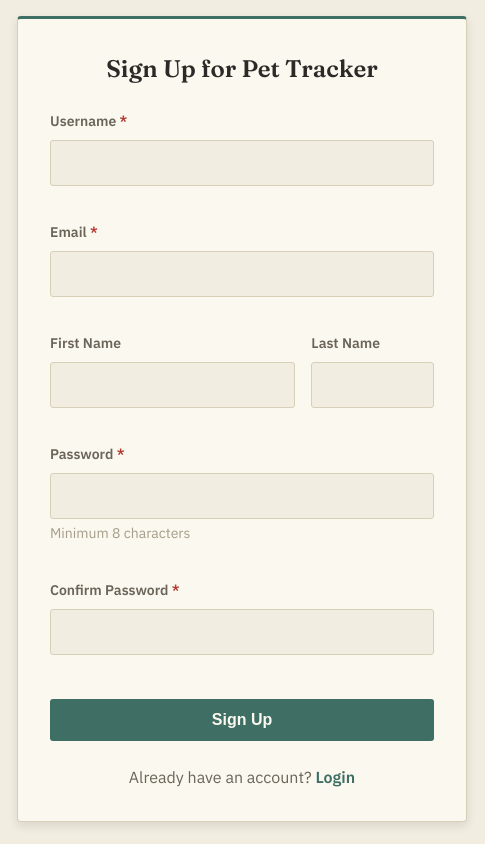
Test: Signup Component › disables form during registration
Type "newuser" into the field labelled "Username *". click: (242, 163)
box: top-left (50, 140), bottom-right (434, 186)
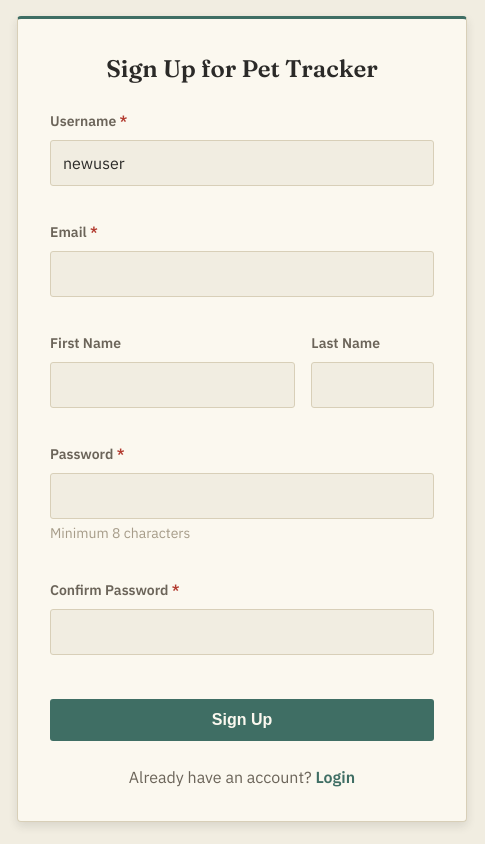
Type "new@example.com" into the field labelled "Email *". click: (242, 274)
box: top-left (50, 251), bottom-right (434, 297)
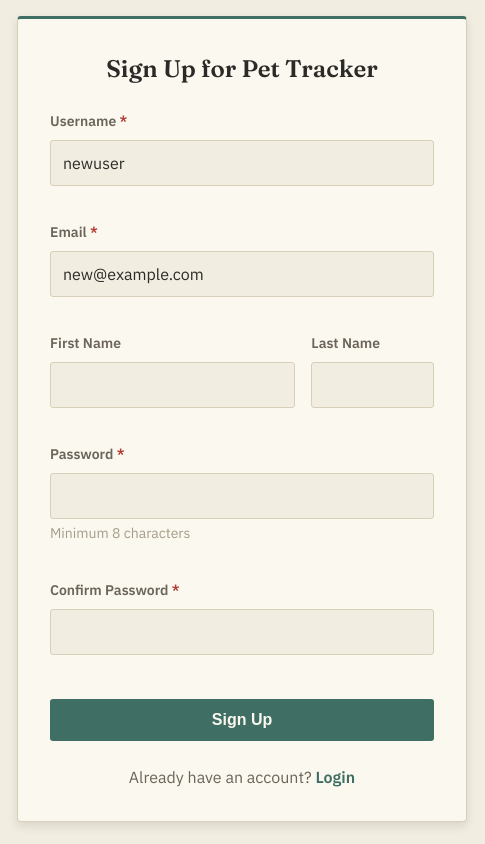
Type "password123" into the password field labelled "Password *". click: (242, 496)
box: top-left (50, 473), bottom-right (434, 519)
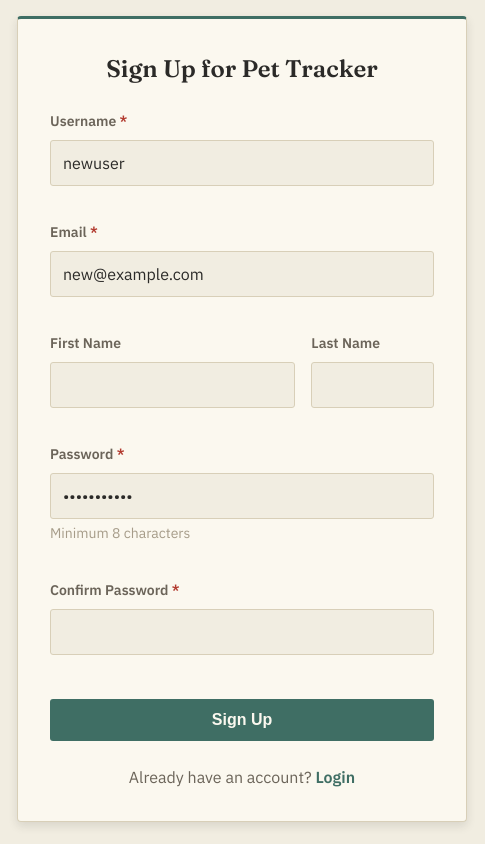
Type "password123" into the password field labelled "Confirm Password *". click: (242, 632)
box: top-left (50, 609), bottom-right (434, 655)
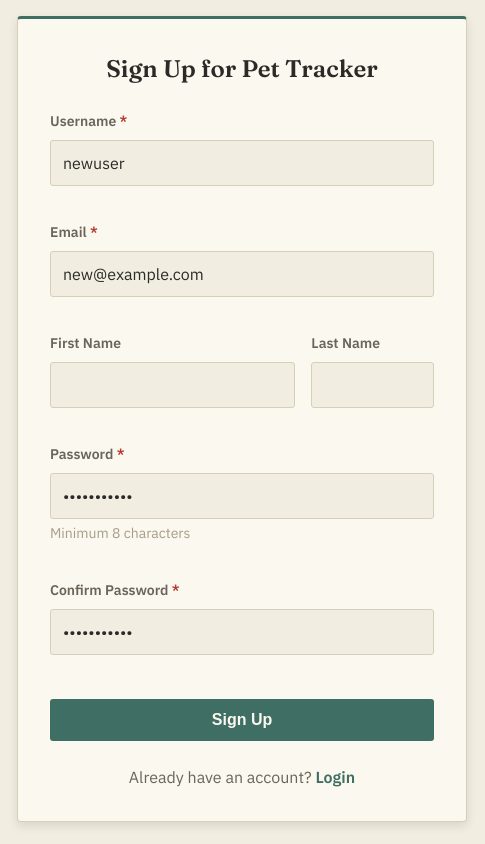
Click the button "Sign Up". click: (242, 720)
box: top-left (50, 699), bottom-right (434, 741)
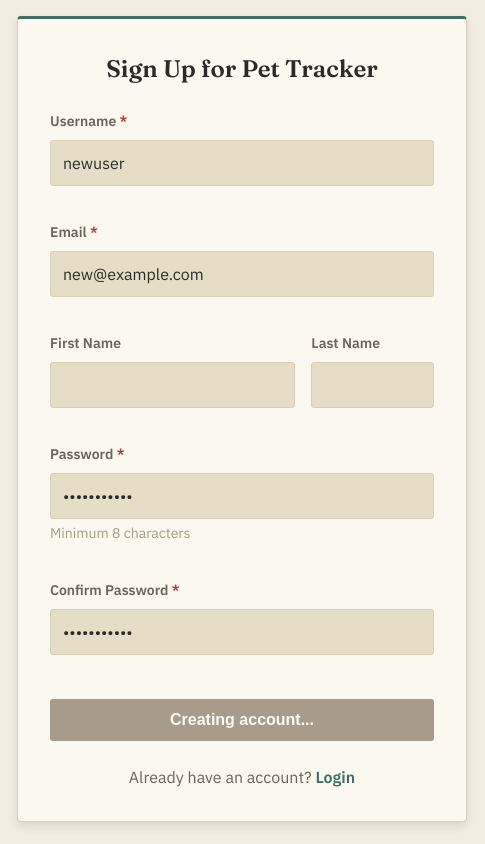
Result: the button named "sign up" is disabled at top-left (50, 699), bottom-right (434, 741)
